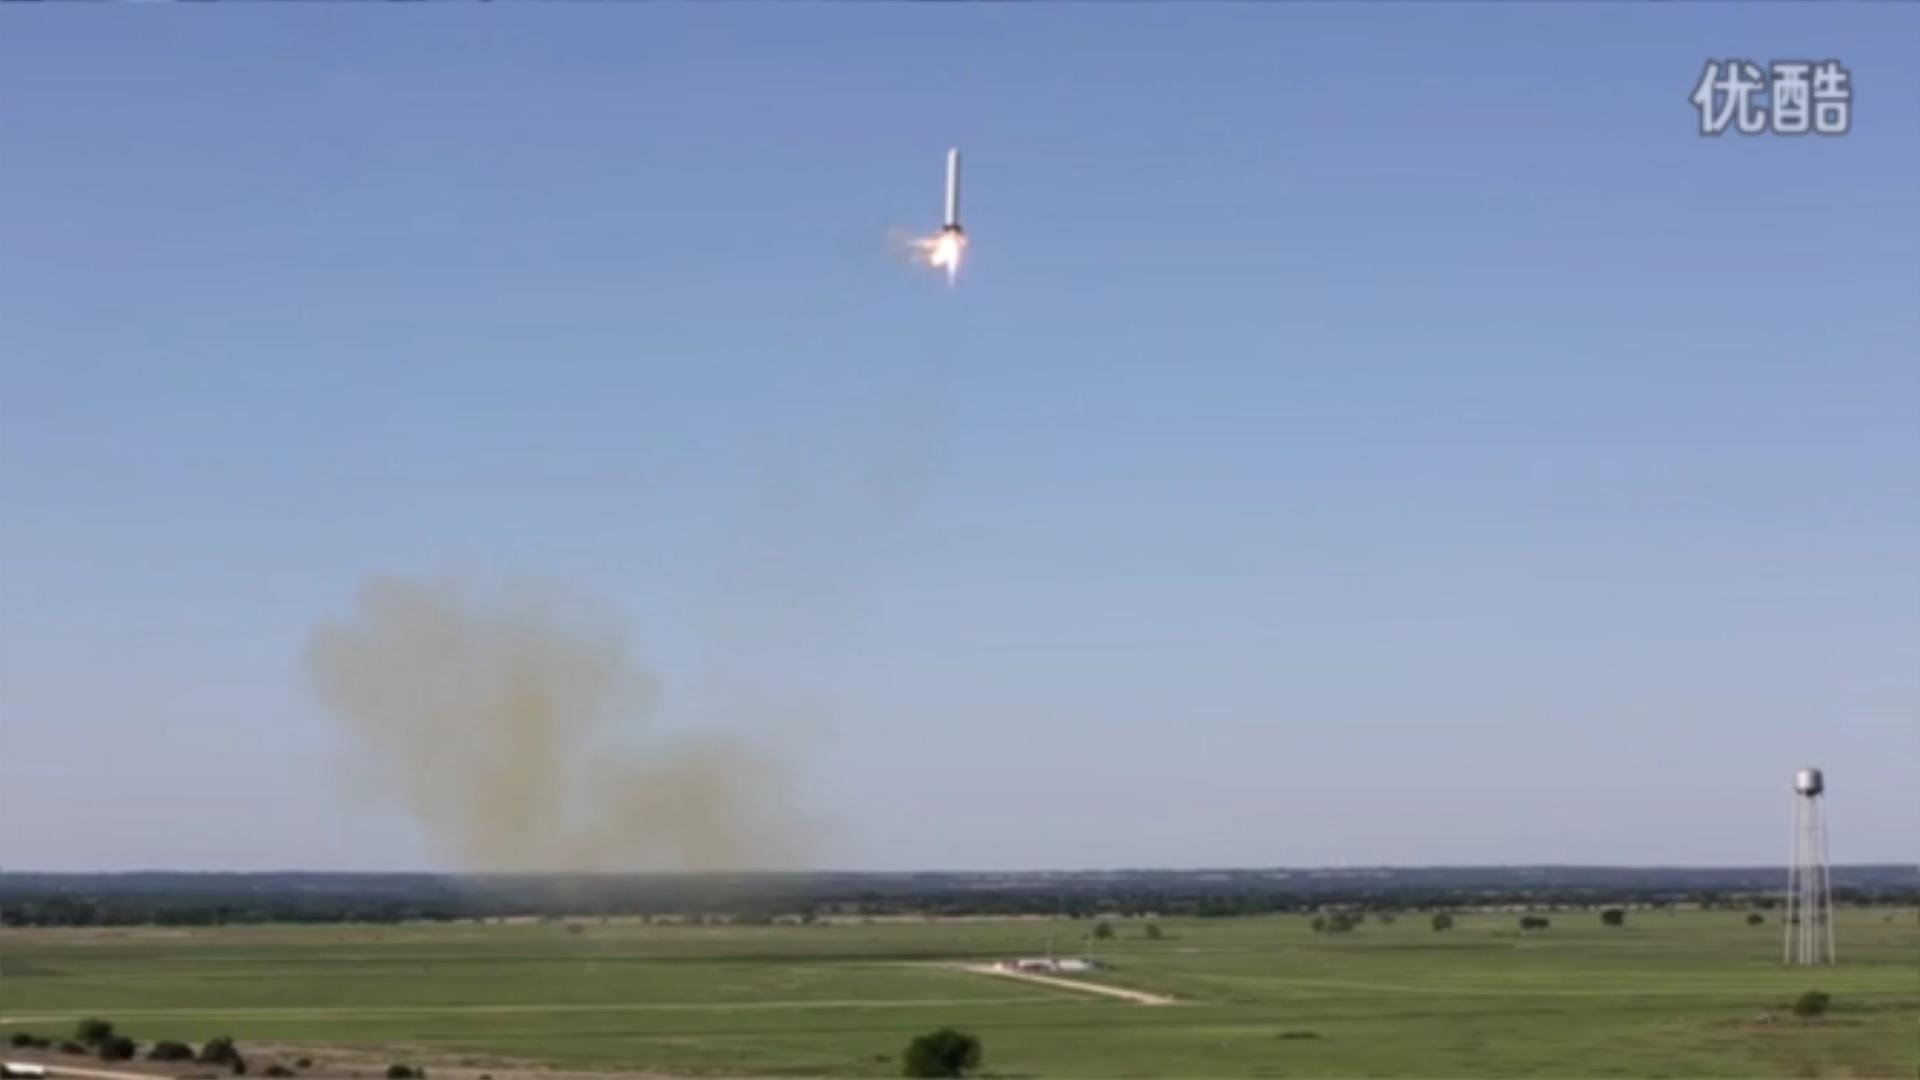fire: (915, 222, 971, 276)
